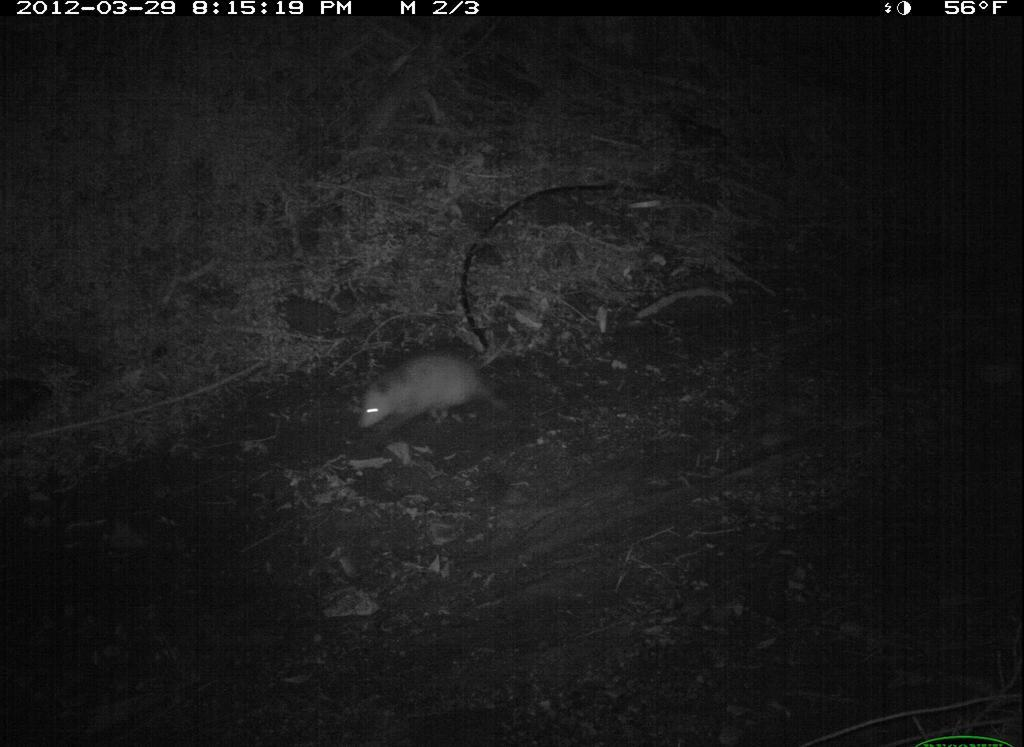opossum: (355, 324, 519, 438)
